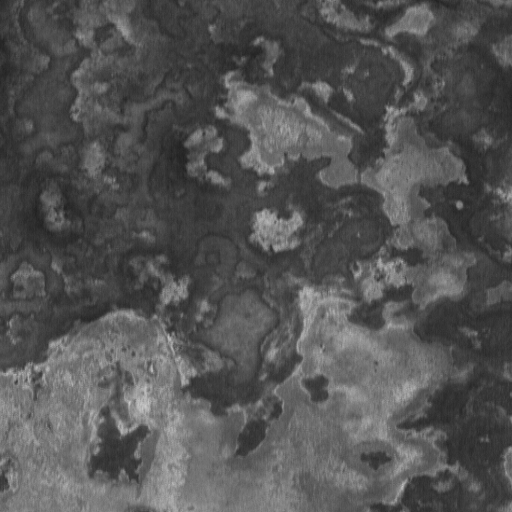aokeng: (180, 273, 286, 413), (15, 1, 91, 169), (84, 402, 157, 492)
